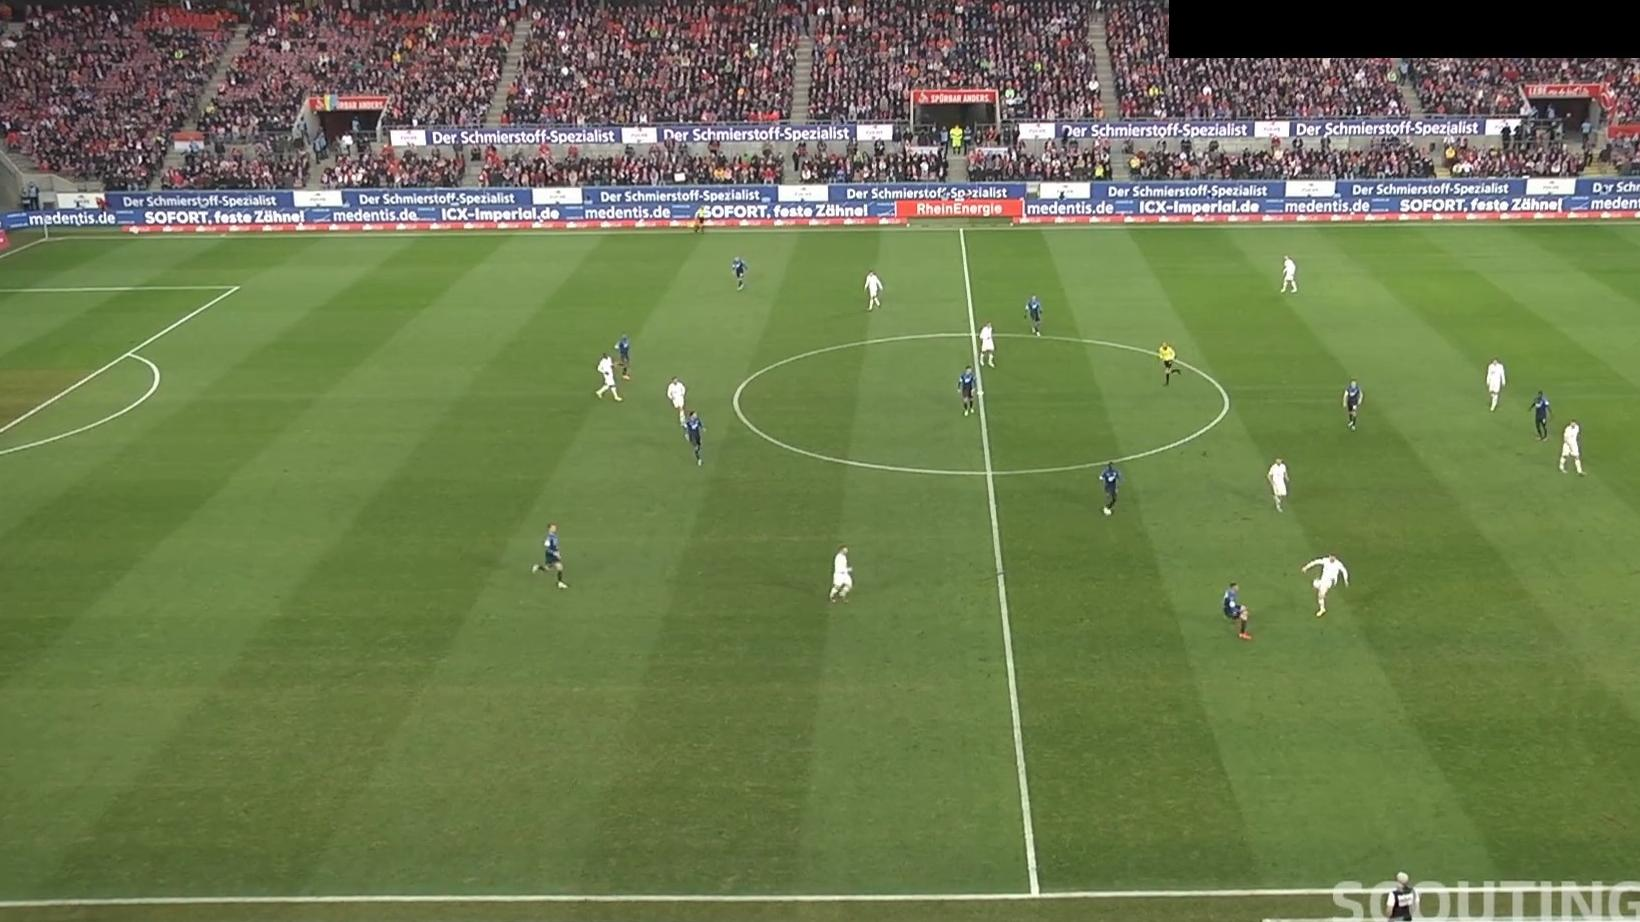ball: (1312, 578, 1323, 590)
